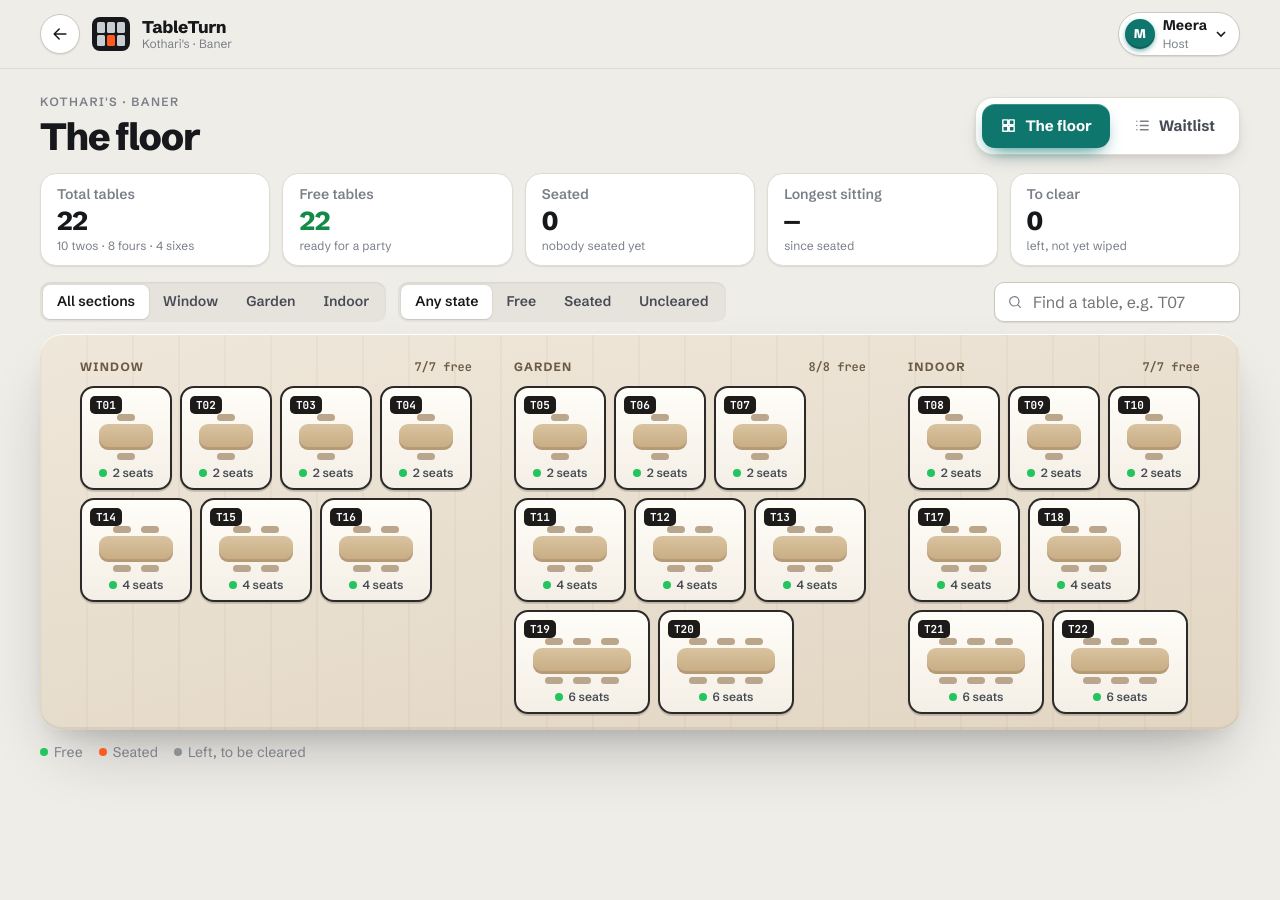
F-04 · Finding one table › typing T07 in the find box and pressing Enter opens T07's drawer
The width and height of the screenshot is (1280, 900).
Type "T07" into the field named "Table number".
click(1129, 302); type("T07")  # box [1031,289,1227,315]
Then press Enter
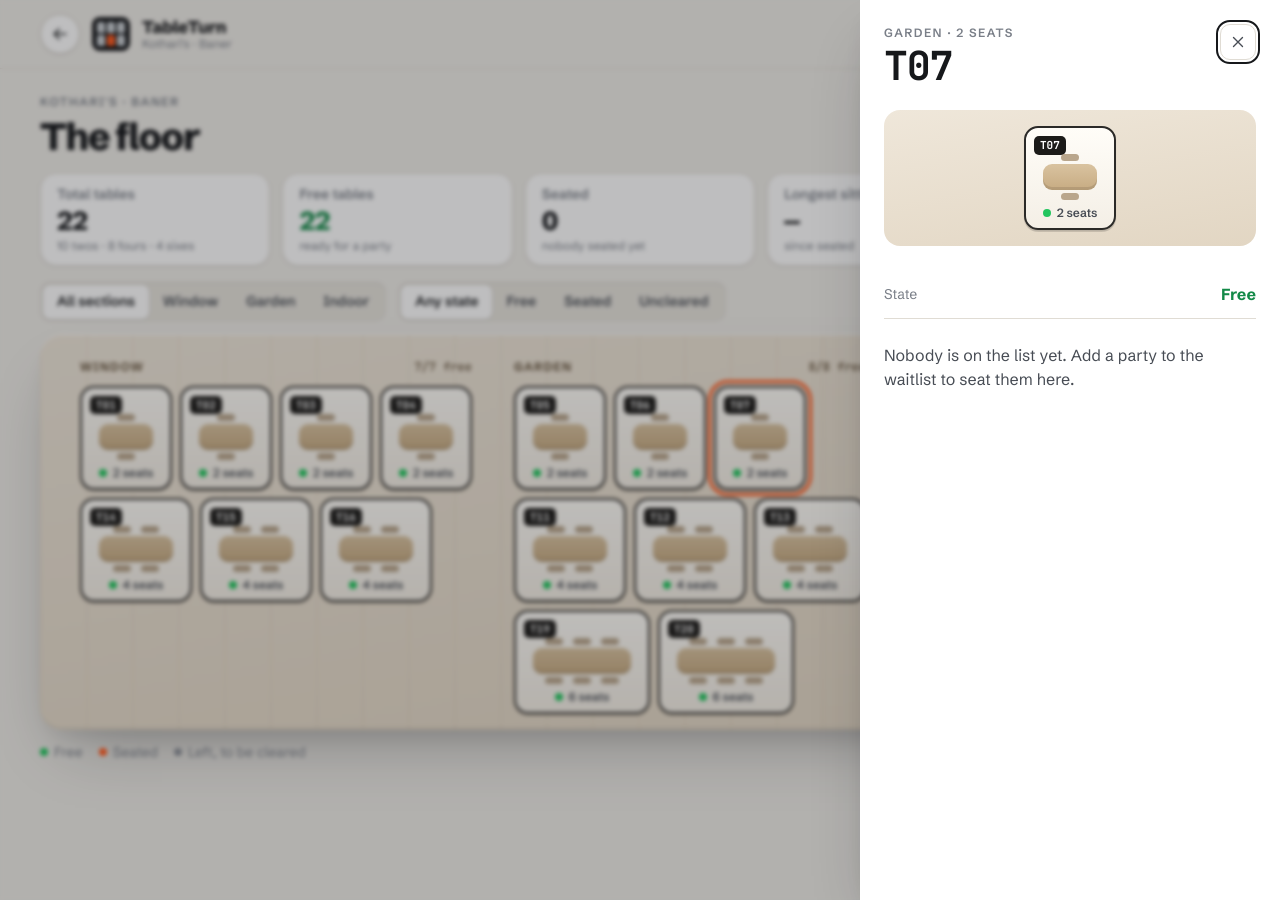
Expected: the dialog "T07" is shown, [860,0,1279,899]
Expected: the text "Garden · 2 seats" is shown, [884,24,1014,42]
